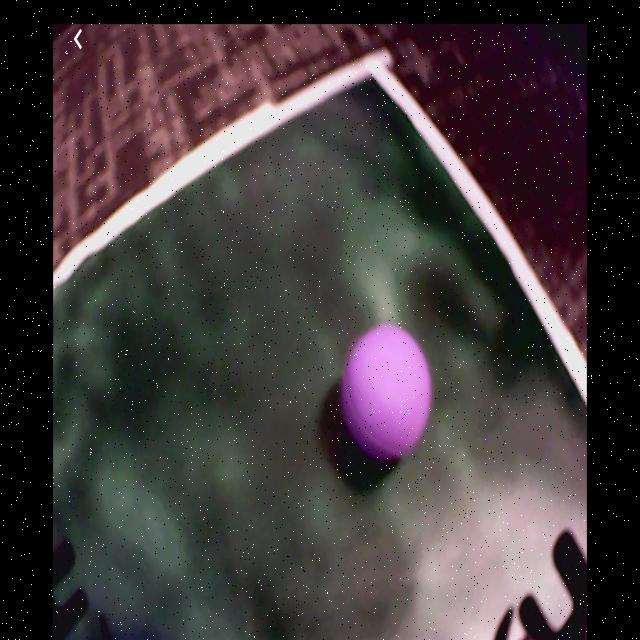ball: (343, 325, 432, 461)
